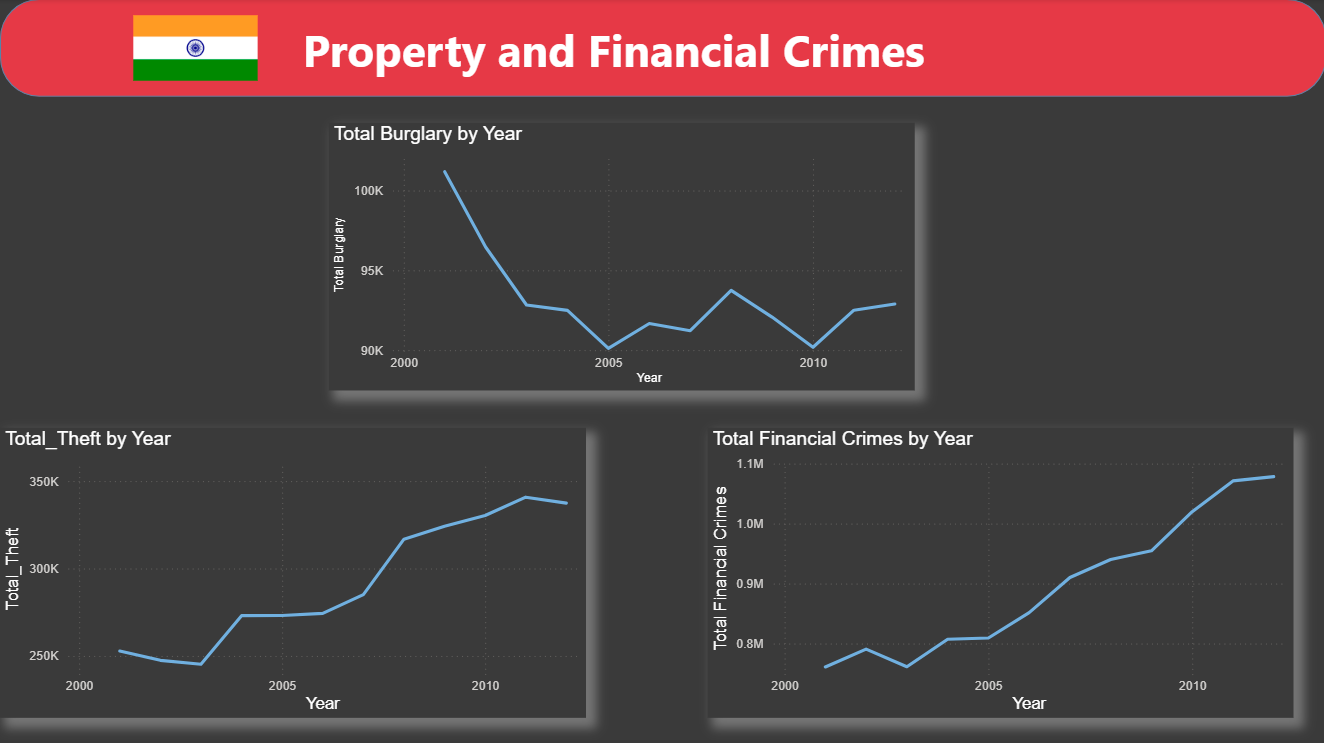

The page's visual inventory and layout, read from the dashboard file:
{"tool":"powerbi","page":{"name":"Property and Financial Crimes","canvas":[1280,720],"ordinal":4},"visuals":[{"type":"lineChart","fields":{"Category":["Year_Table.Year"],"Y":["Property_Crimes.Total Burglary"]},"box":[317.4,119.7,565.6,258.3],"z":0},{"type":"lineChart","fields":{"Category":["Year_Table.Year"],"Y":["Crime_Summary.Total Financial Crimes"]},"box":[682.9,414.3,565.7,280],"z":1000},{"type":"shape","box":[0,0,1280,94.3],"z":2000},{"type":"textbox","box":[287.1,14.3,625.7,67.1],"z":3000},{"type":"lineChart","fields":{"Category":["Year_Table.Year"],"Y":["Property_Crimes.Total_Theft"]},"box":[0,413.8,565.8,279.9],"z":4000},{"type":"image","box":[122.6,15.9,131.3,63.5],"z":5000}]}

Visuals, with their boxes in screenshot pixels (x1, y1, x2, y2), scaled from the page's 1280x720 canvas onto the 1324x743 screenshot:
lineChart - Year_Table.Year x Property_Crimes.Total Burglary: detection(328, 124, 913, 390)
lineChart - Year_Table.Year x Crime_Summary.Total Financial Crimes: detection(706, 428, 1292, 716)
shape: detection(0, 0, 1323, 97)
textbox: detection(297, 15, 944, 84)
lineChart - Year_Table.Year x Property_Crimes.Total_Theft: detection(0, 427, 585, 716)
image: detection(127, 16, 263, 82)
